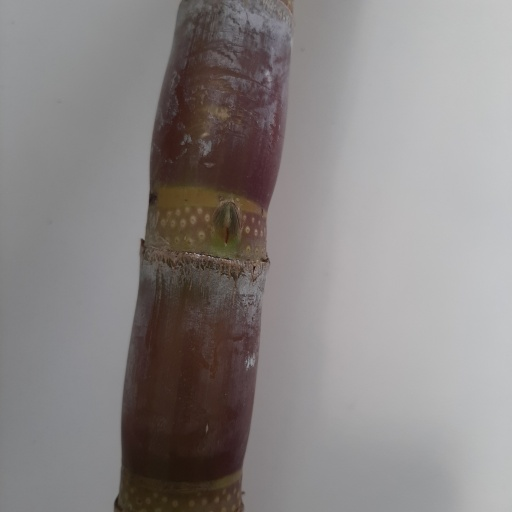Bud: (211, 201, 239, 245)
